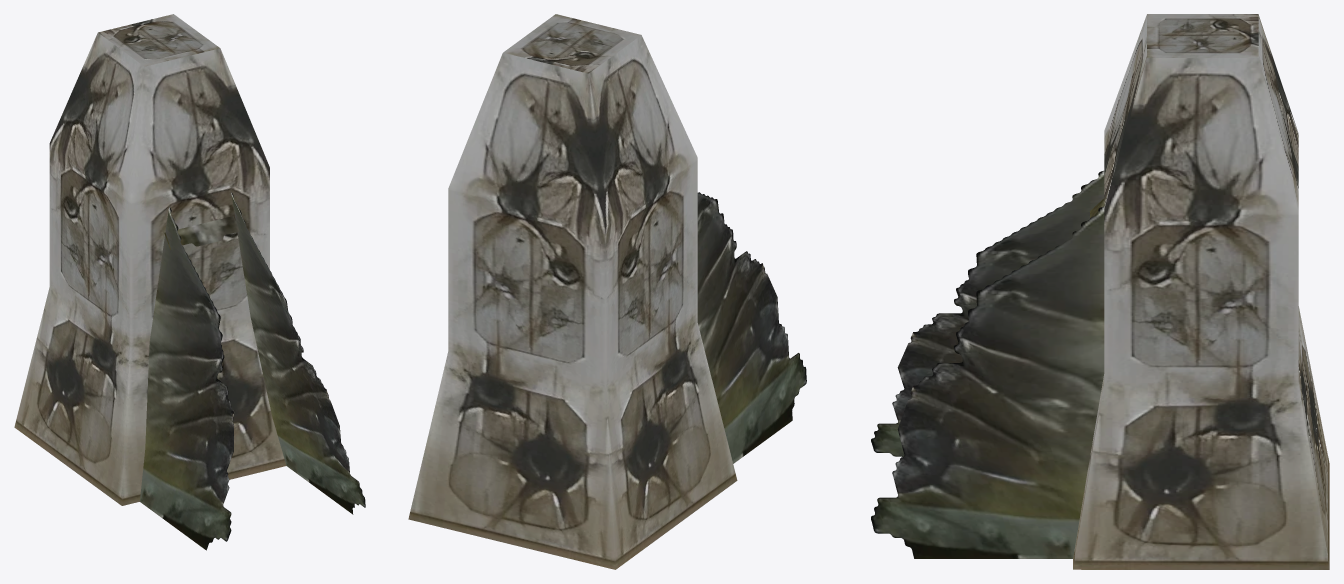
Rendered from l_mediumwall_dam_hdtex.glb.
3 renders of one model, left to right at view 1: azimuth 30°, elevation 25°; view 2: azimuth 150°, elevation 25°; view 3: azimuth 270°, elevation 25°, orthographic. The views are drawn at different scales.
Parts seen in each view (by area): view 1: L_MediumWallDAM; view 2: L_MediumWallDAM; view 3: L_MediumWallDAM.
Boxes of the visible parts, x1,y1,x2,y2 form: L_MediumWallDAM: (14, 14, 365, 550); L_MediumWallDAM: (408, 14, 806, 569); L_MediumWallDAM: (871, 14, 1329, 569).
Bounding box in the file's own units: 5.49 × 11.57 × 10.43.
1 material, 1 textured.
